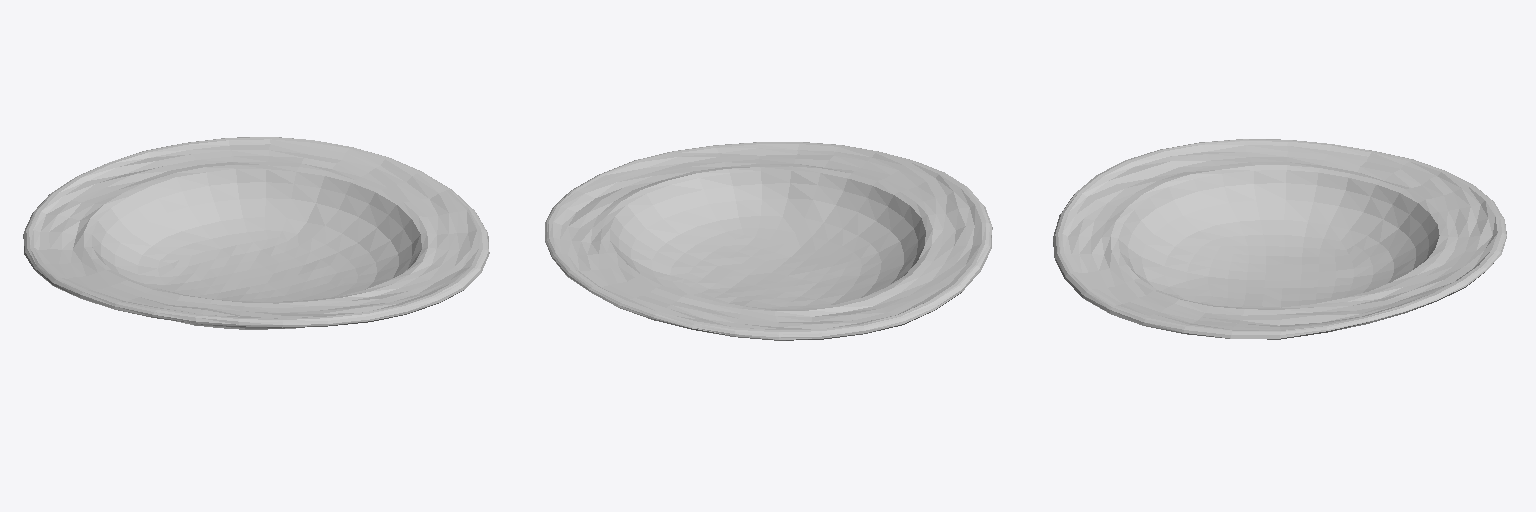
The model's file is carved_wooden_plate_4k.obj.
3 views of the same model, side by side, from view 1: azimuth 30°, elevation 25°; view 2: azimuth 150°, elevation 25°; view 3: azimuth 270°, elevation 25° (orthographic).
Parts seen in each view (by area): view 1: carved_wooden_plate; view 2: carved_wooden_plate; view 3: carved_wooden_plate.
Part boxes in pixels (left/top/right/bottom): carved_wooden_plate: left=23, top=137, right=489, bottom=329; carved_wooden_plate: left=545, top=142, right=992, bottom=340; carved_wooden_plate: left=1053, top=139, right=1506, bottom=339.
Bounding box in the file's own units: 0.2718 × 0.0381 × 0.2688.